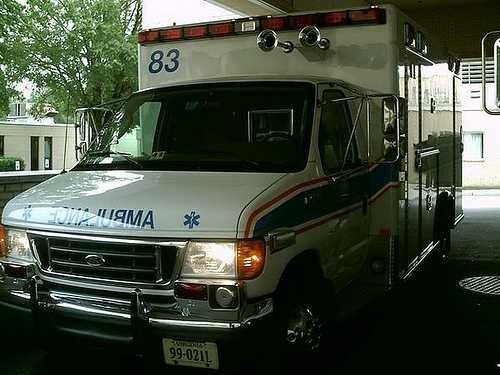Ambulance: (17, 2, 459, 372)
